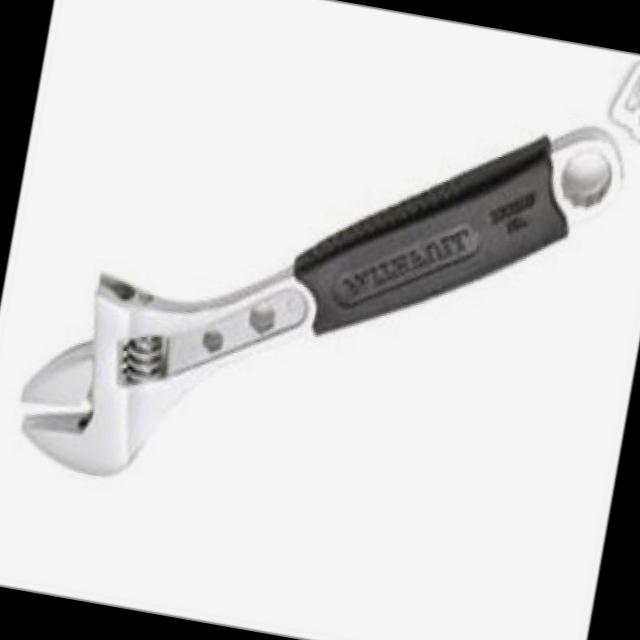wrench: (23, 130, 621, 476)
